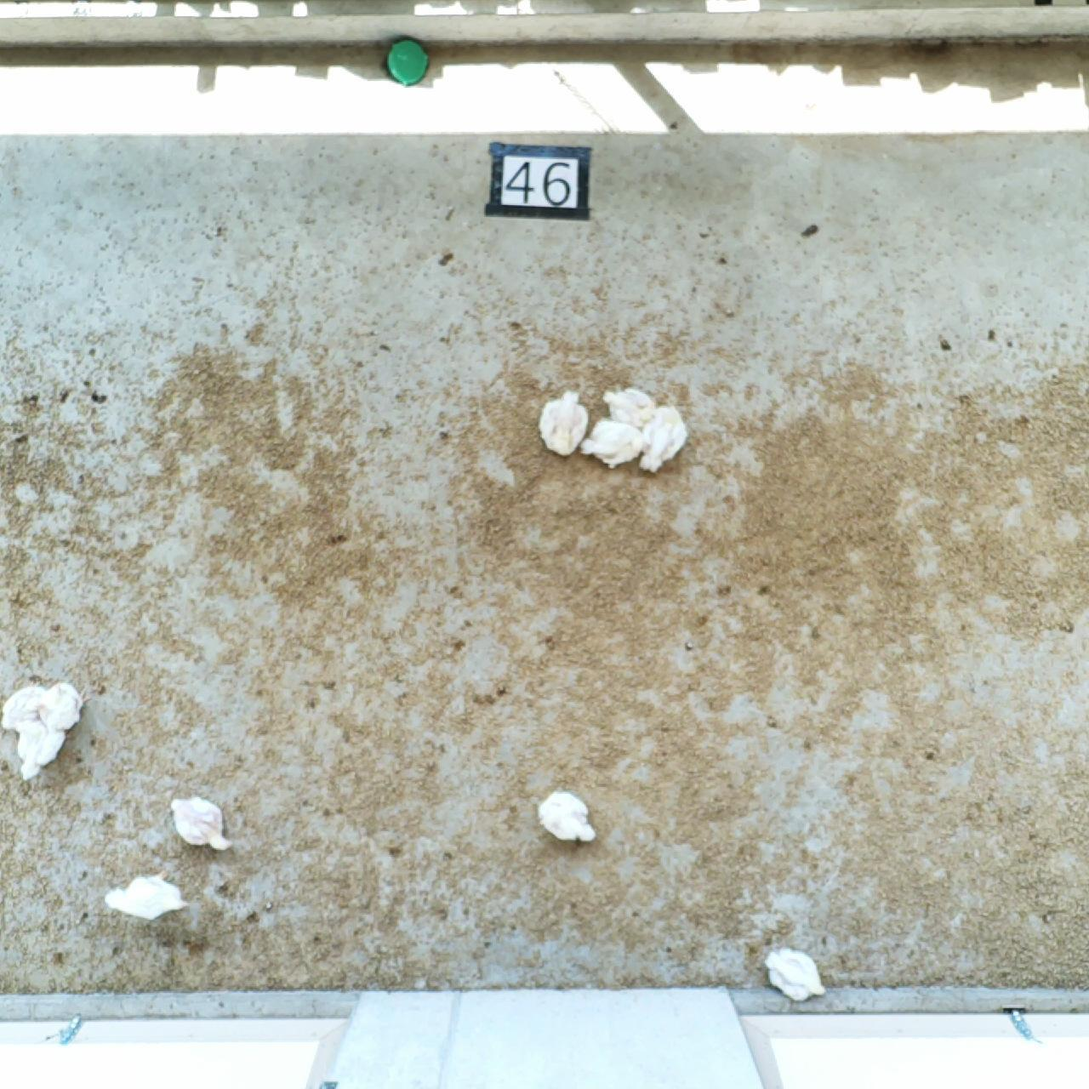chicken: (103, 868, 193, 921), (579, 416, 649, 473), (168, 796, 234, 853), (539, 390, 592, 459), (763, 945, 827, 1002), (637, 405, 688, 476), (14, 716, 67, 782), (537, 788, 598, 843), (601, 385, 659, 433), (36, 681, 85, 729), (2, 683, 50, 730)
